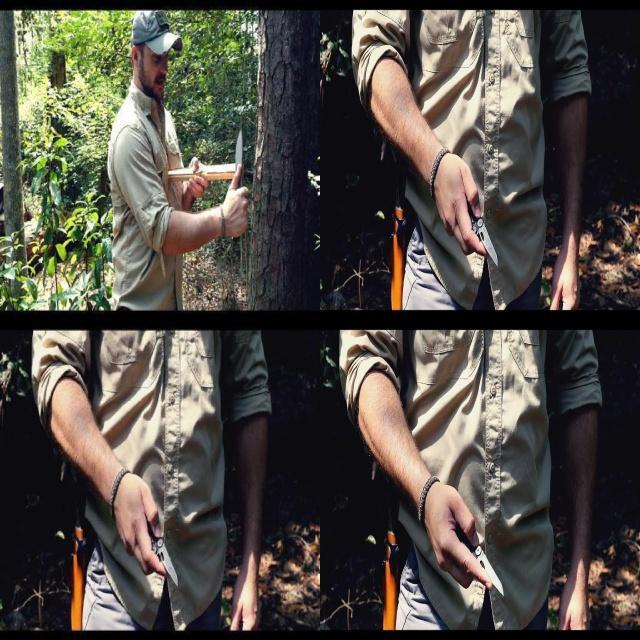-: (431, 502, 506, 600), (446, 189, 502, 276), (126, 509, 182, 596), (228, 125, 249, 228)
